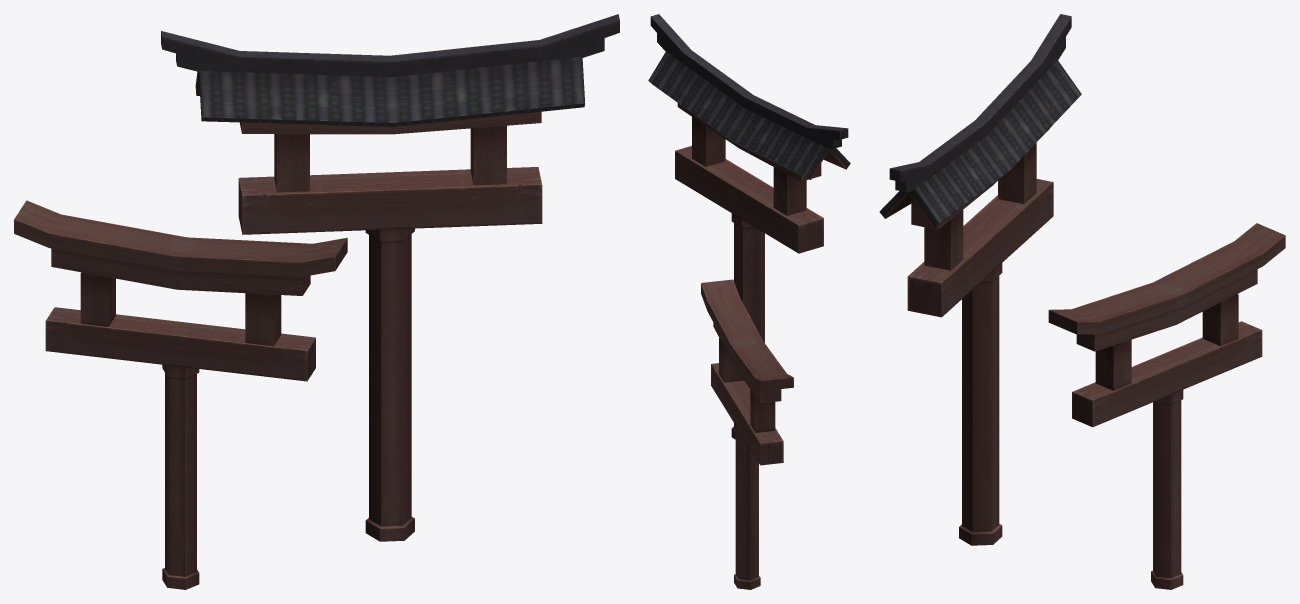
The model's file is Area_04_18.fbx.
3 views of the same model, side by side, from view 1: azimuth 30°, elevation 25°; view 2: azimuth 150°, elevation 25°; view 3: azimuth 270°, elevation 25° (orthographic). The views are drawn at different scales.
Visible parts, largest first — view 1: Area_04_18; view 2: Area_04_18; view 3: Area_04_18.
Boxes of the visible parts, left/top/right/bottom form: Area_04_18: left=14, top=14, right=619, bottom=589; Area_04_18: left=648, top=14, right=850, bottom=589; Area_04_18: left=879, top=14, right=1285, bottom=589.
Bounding box in the file's own units: 2774 × 4019 × 2767.
